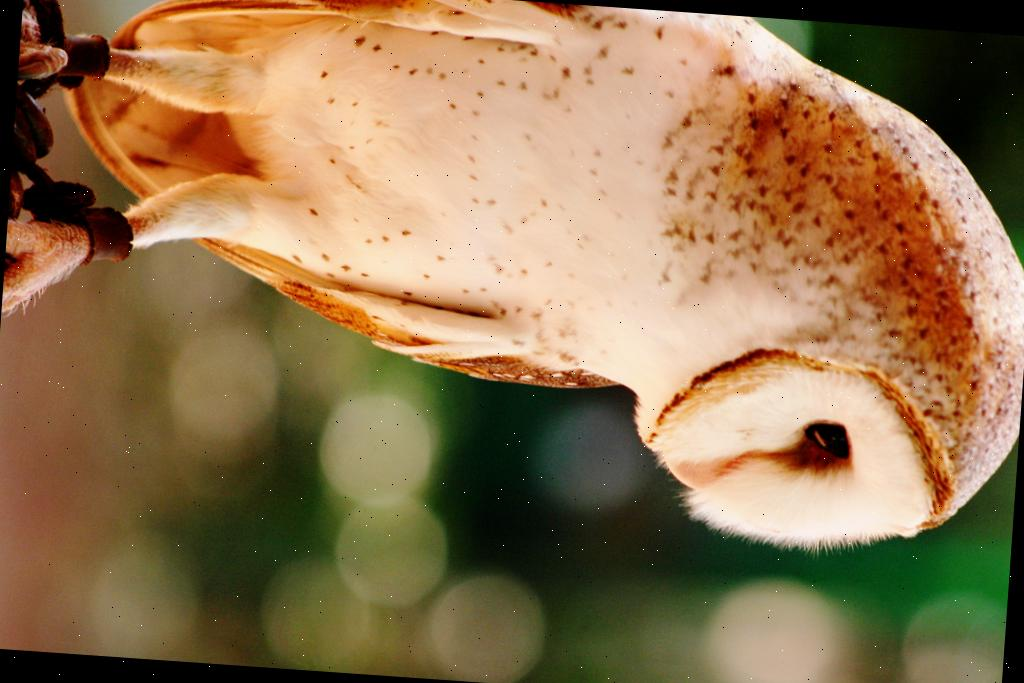Owl: (0, 0, 1024, 568)
